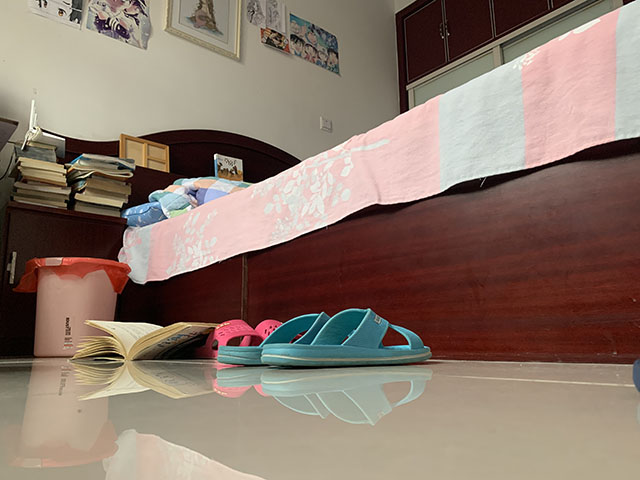bed: (65, 1, 640, 366)
book: (68, 319, 221, 363)
cabinet: (1, 199, 129, 360)
slippers: (264, 308, 433, 369), (191, 317, 284, 358)
trashcan: (11, 256, 132, 358)
